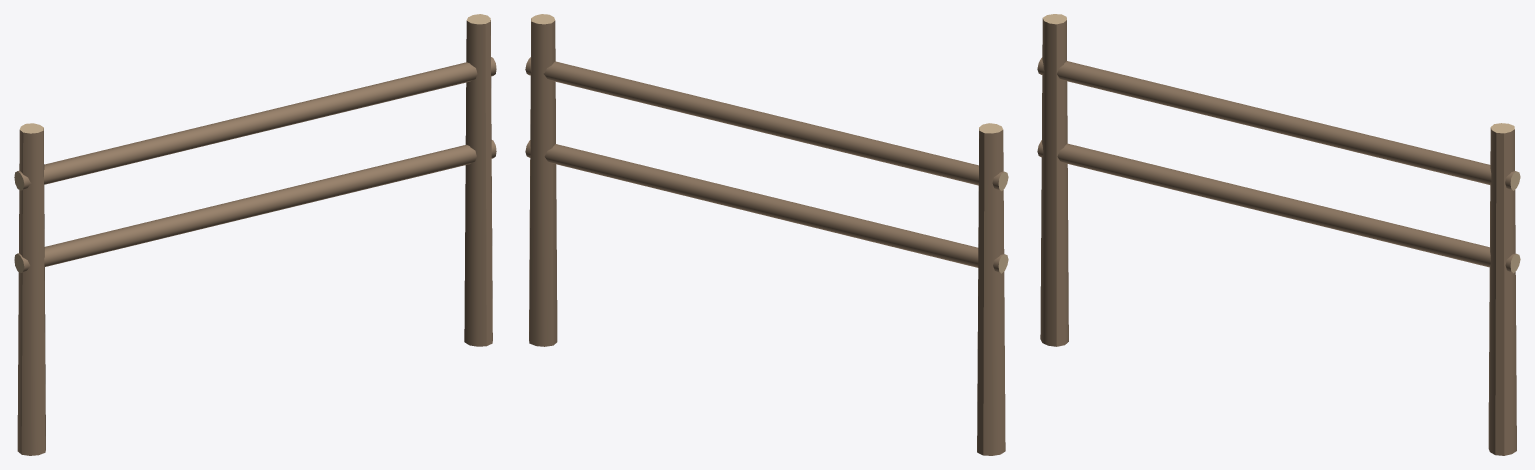
The model's file is log_fence.glb.
The picture shows the model from 3 angles, left to right: view 1: azimuth 30°, elevation 25°; view 2: azimuth 150°, elevation 25°; view 3: azimuth 330°, elevation 25°; orthographic projection.
Visible parts, largest first — view 1: Fence; view 2: Fence; view 3: Fence.
Boxes of the visible parts, x1,y1,x2,y2 form: Fence: (14,14,496,455); Fence: (525,14,1008,455); Fence: (1037,14,1520,455).
Size of the model in its own units: 3 by 1.95 by 0.1639.
